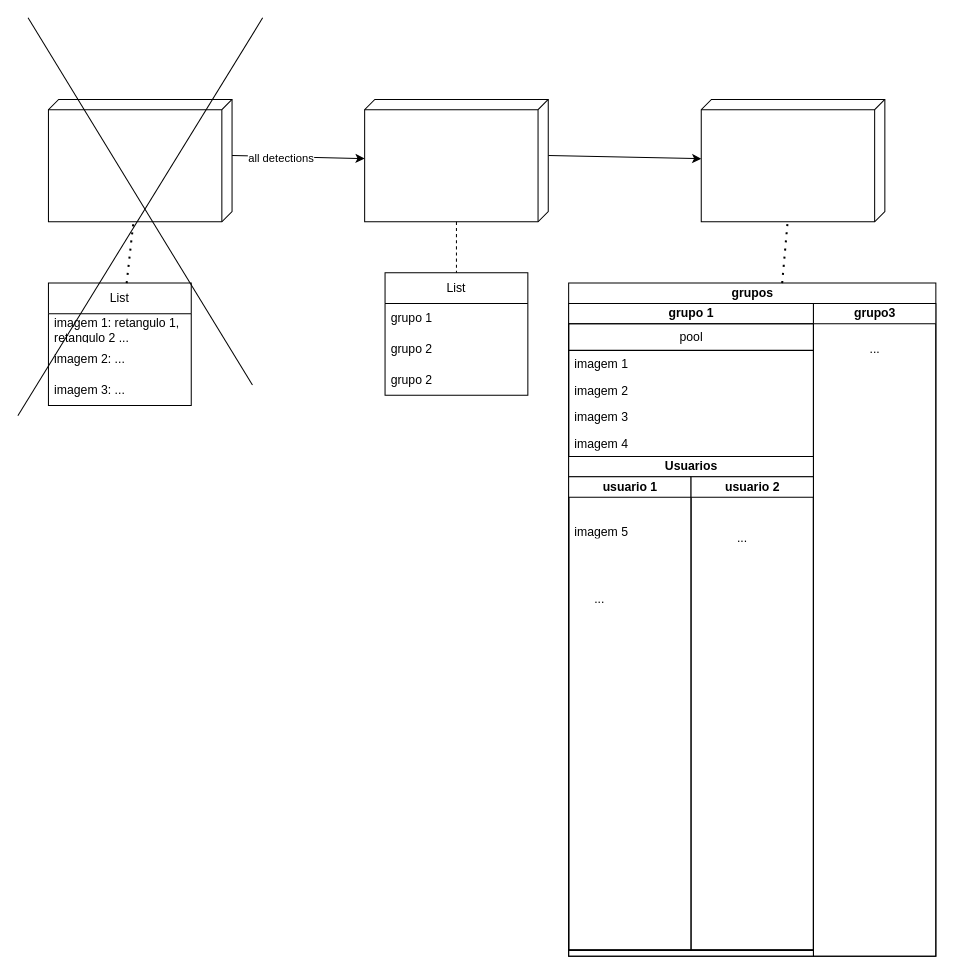
The diagram is 954 pixels wide and 974 high, and some of its shapes have lost their labels. Here are the shapes that lost their labels. From the top down, the centre of each, then its label:
At pixel 139 160: "compatibility".
At pixel 456 160: "group".
At pixel 792 160: "Classification".
